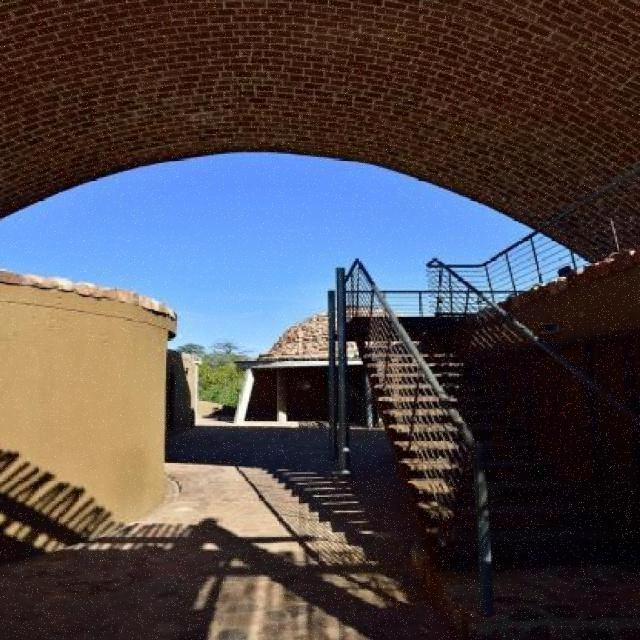stair: (346, 314, 640, 566)
